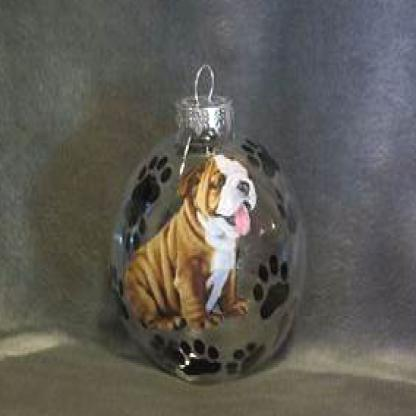dog: (126, 153, 258, 334)
